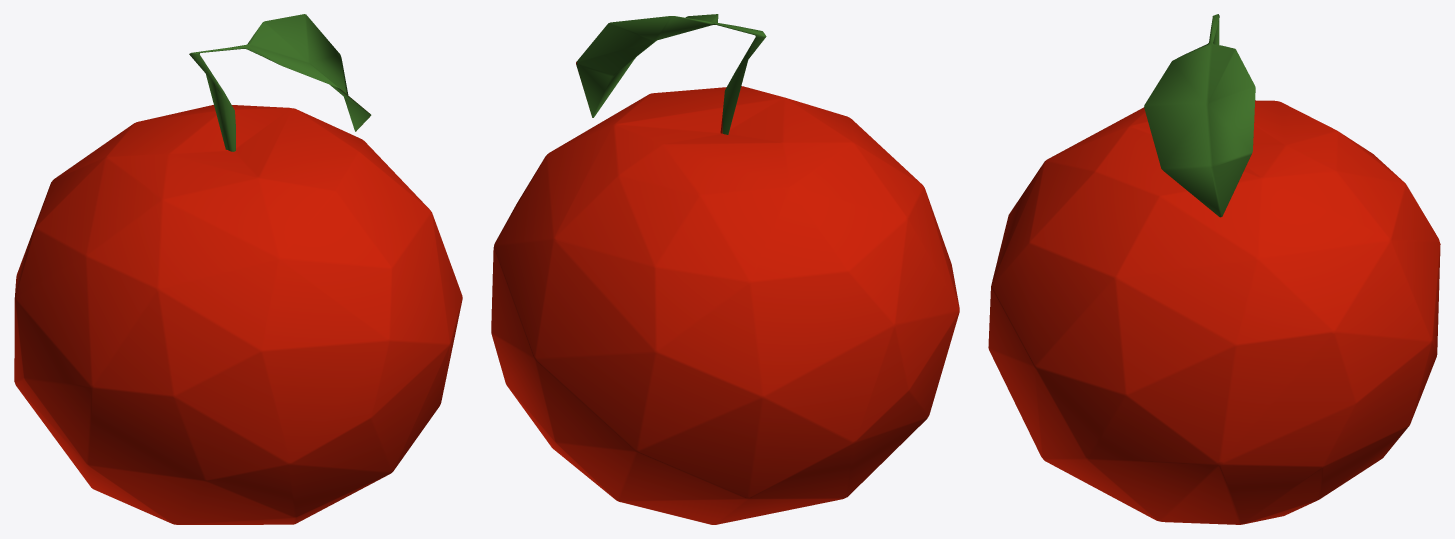
File: Jabłko.fbx
3 views of the same model, side by side, from view 1: azimuth 30°, elevation 25°; view 2: azimuth 150°, elevation 25°; view 3: azimuth 270°, elevation 25° (orthographic). The views are drawn at different scales.
Visible parts, largest first — view 1: Orange; view 2: Orange; view 3: Orange.
Part boxes in pixels (box(x1,y1,x2,y2)): Orange: box(14, 14, 462, 524); Orange: box(491, 14, 959, 524); Orange: box(988, 14, 1440, 524).
Bounding box in the file's own units: 199 × 226 × 199.
